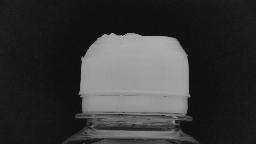Broken Cap: (68, 26, 198, 126)
